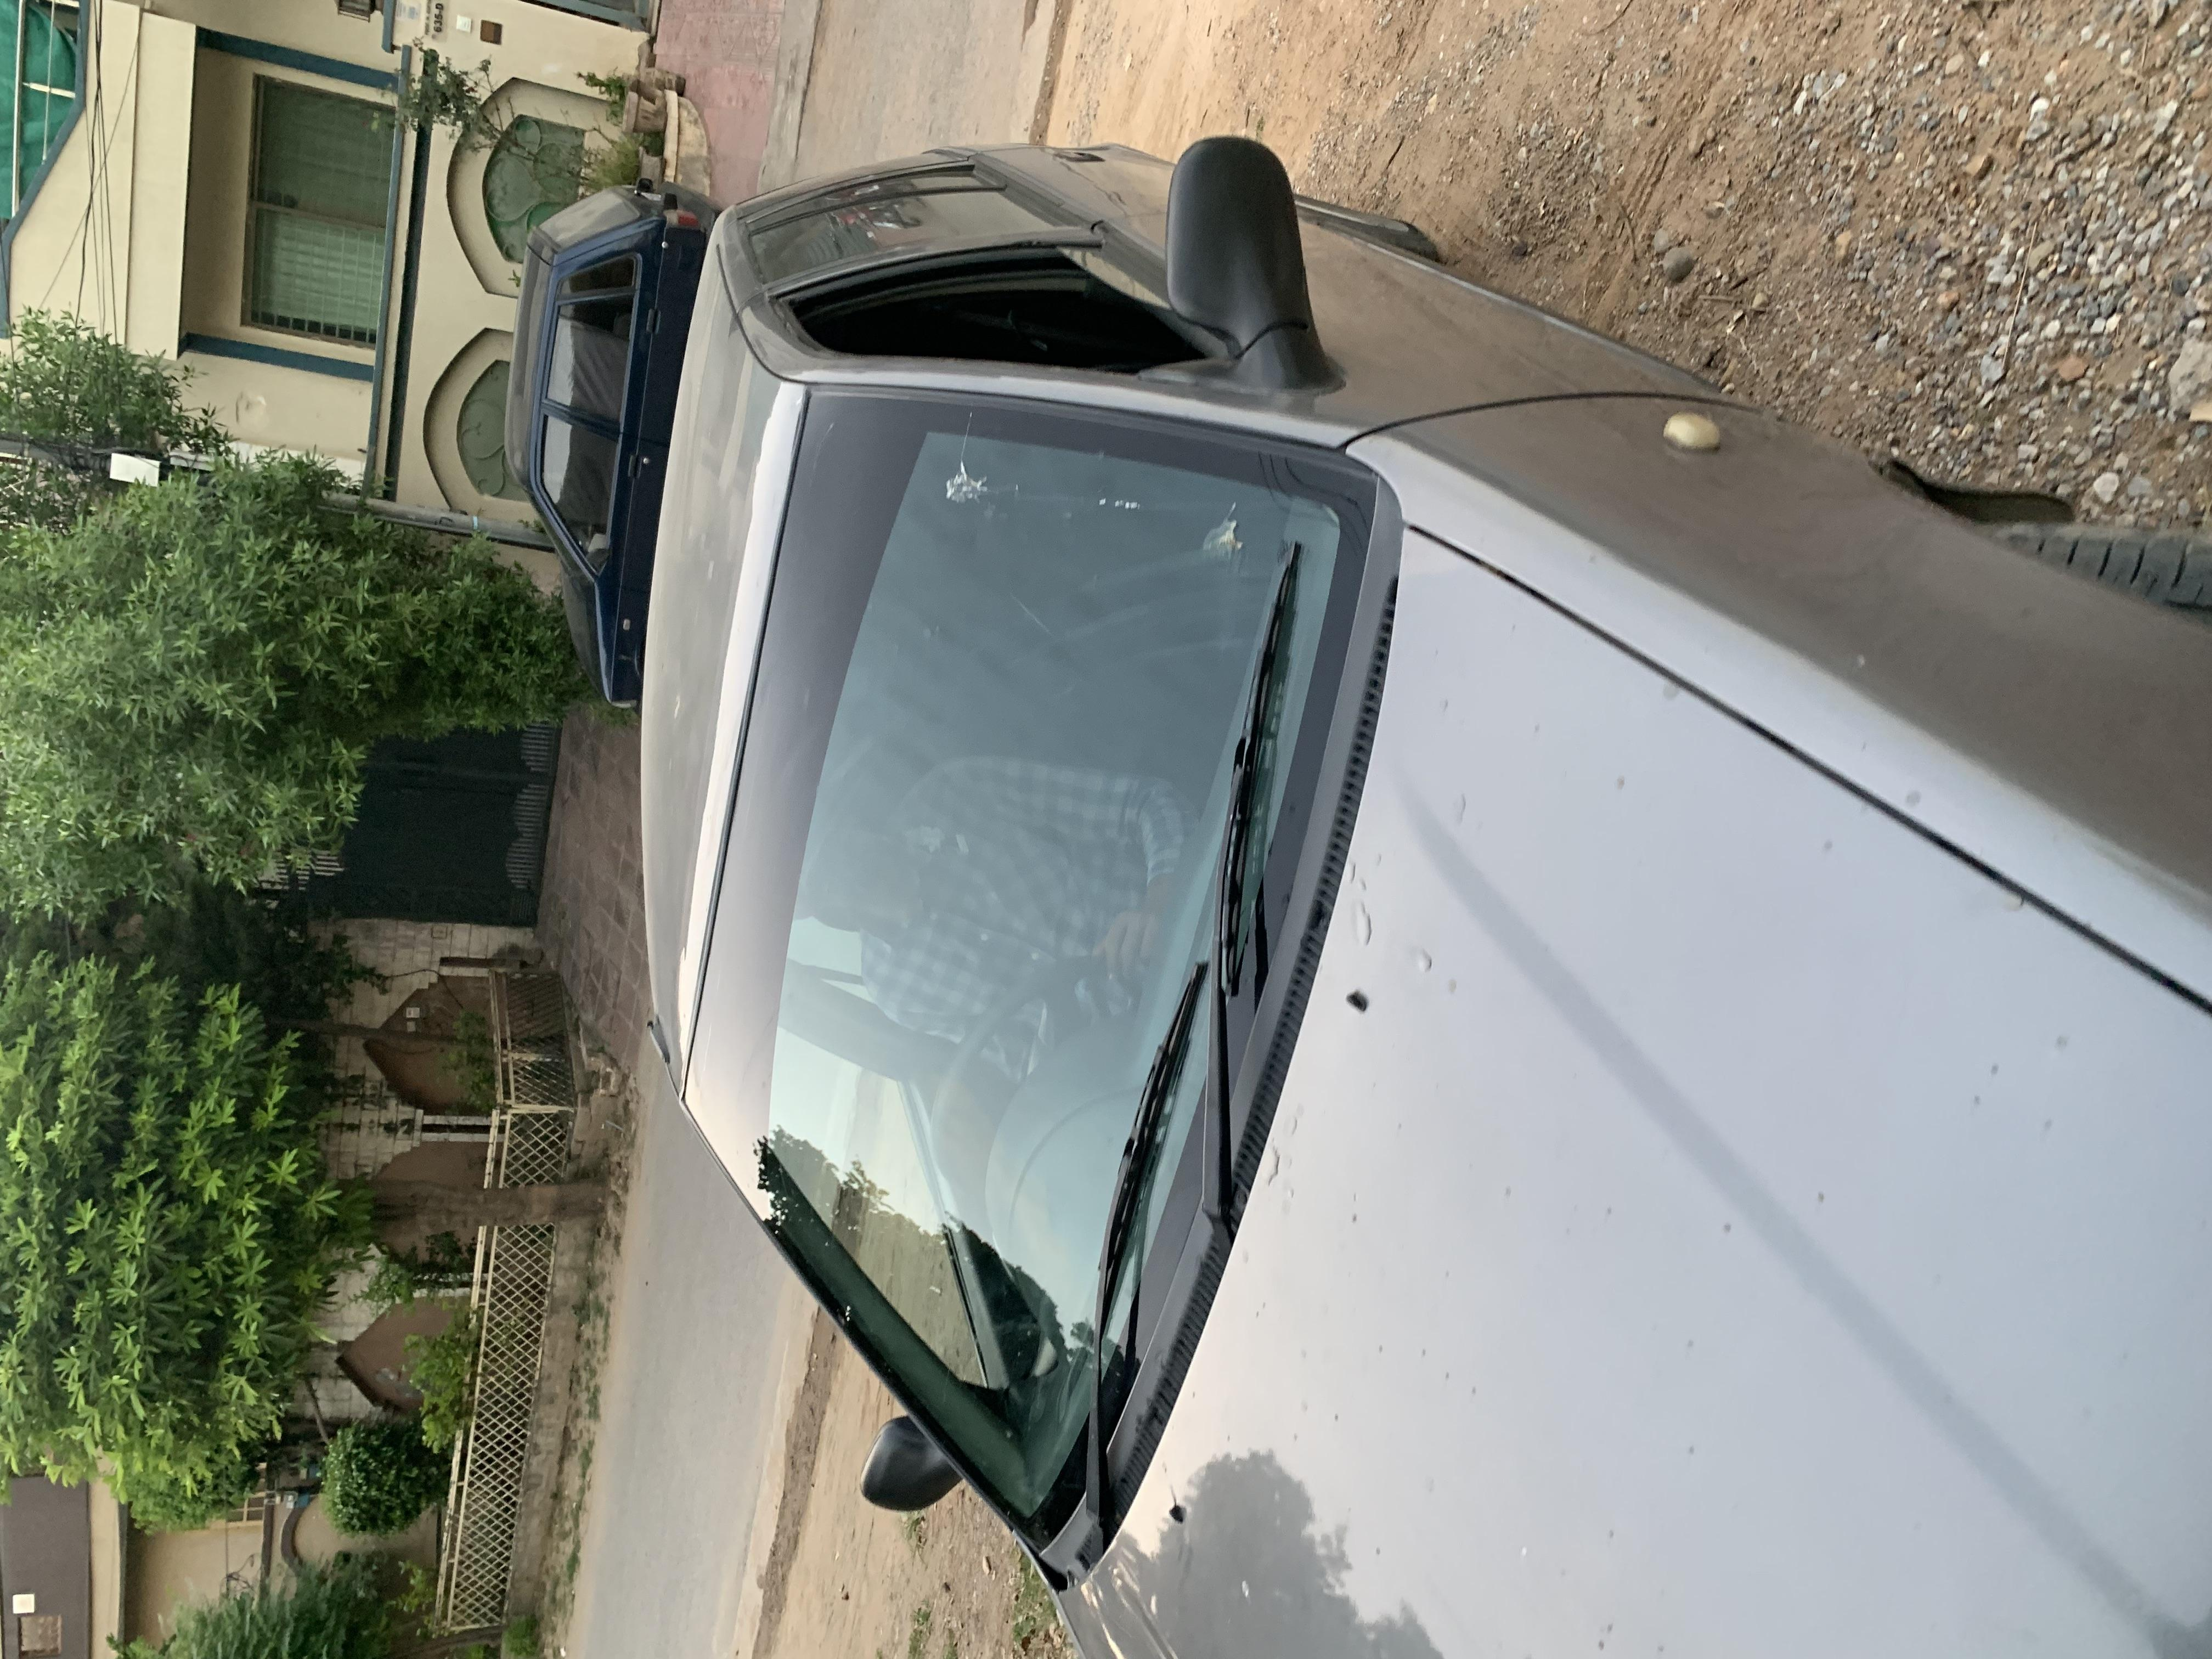windshield: (61, 498, 1728, 1037)
